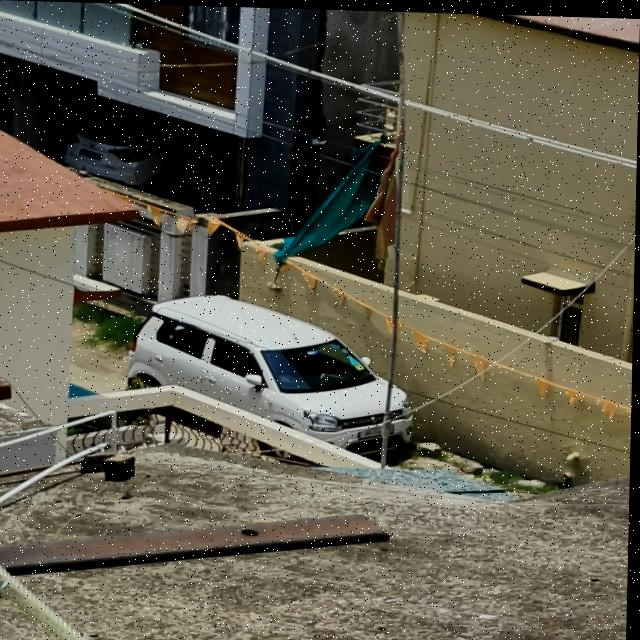car: (121, 279, 438, 467), (47, 98, 215, 206)
